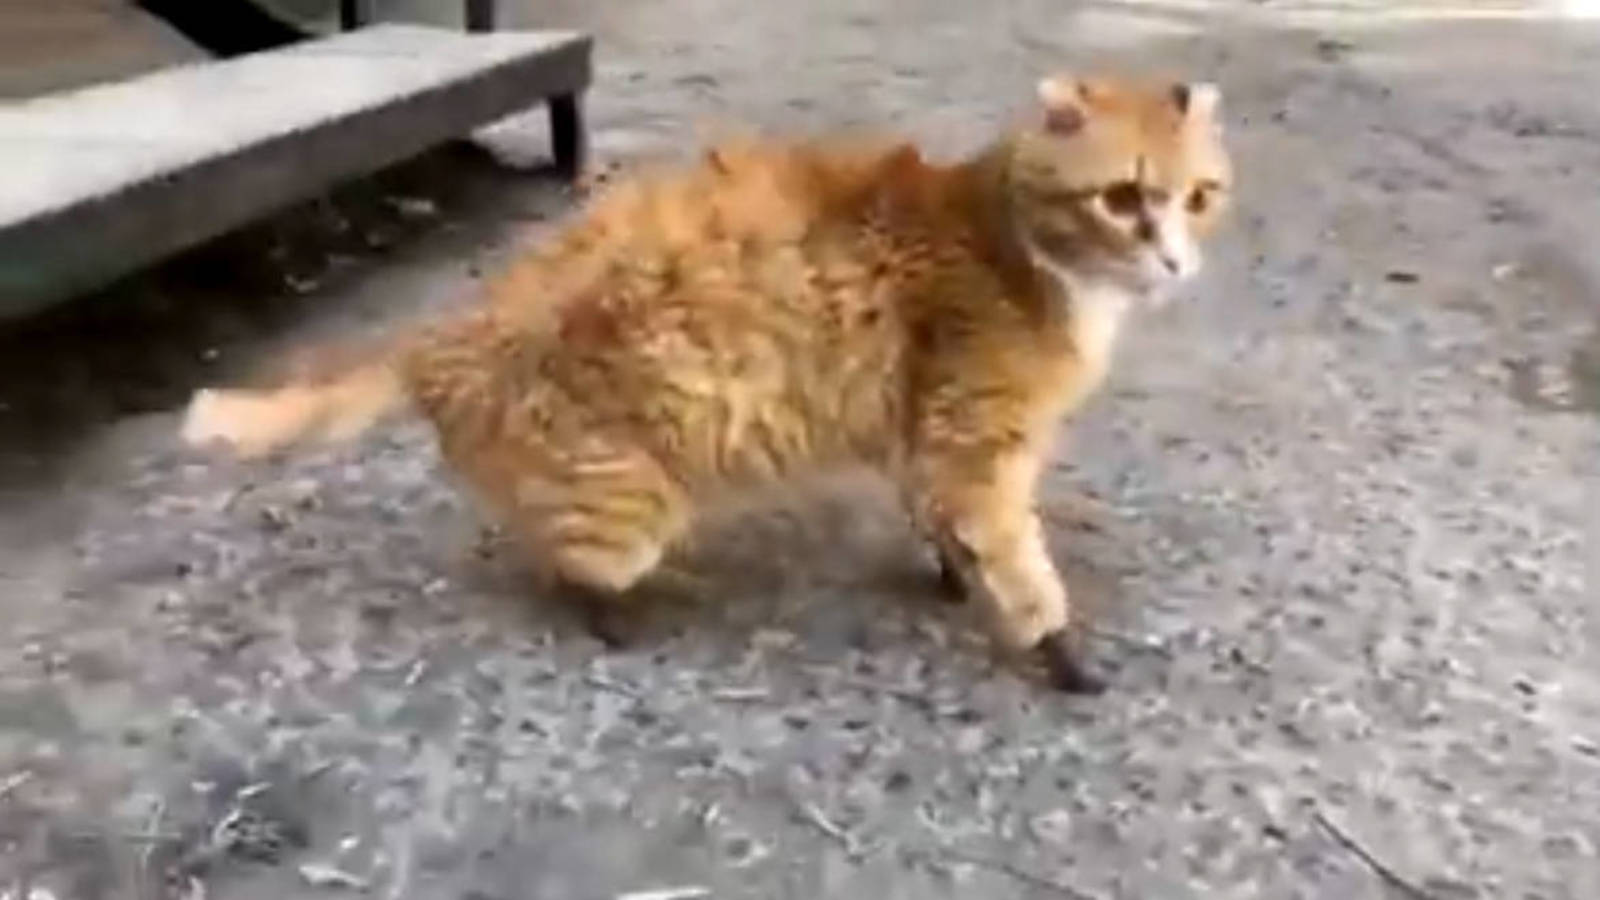cat: (169, 55, 1273, 731)
